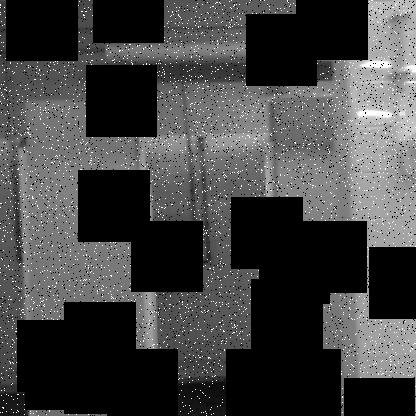Porte: (136, 138, 288, 416)
